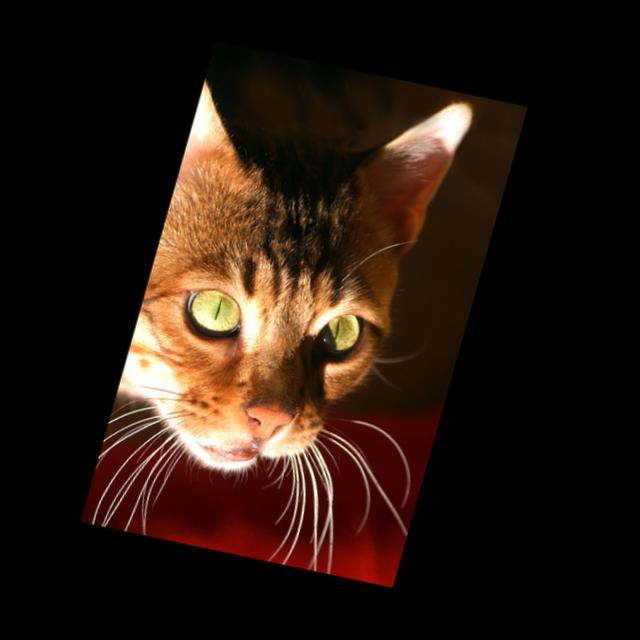animals: (111, 44, 471, 467)
